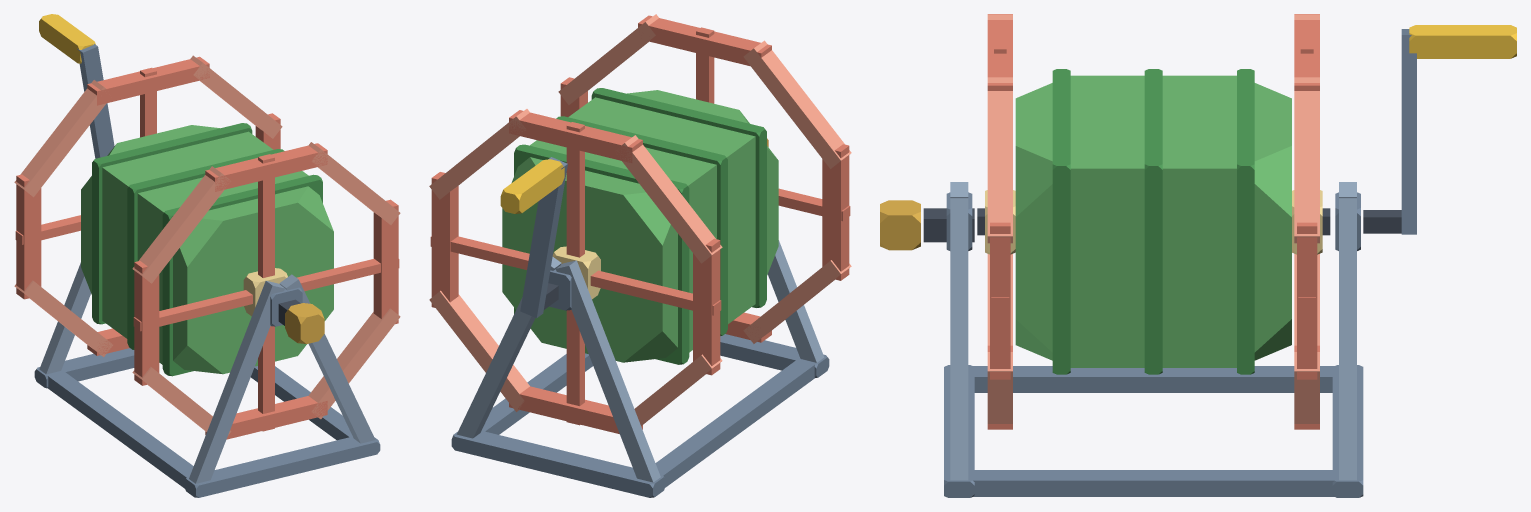
Rendered from hose-reel-j-toastie_R5xHvcRKb2-blocky.glb.
The picture shows the model from 3 angles, left to right: view 1: azimuth 30°, elevation 25°; view 2: azimuth 150°, elevation 25°; view 3: azimuth 270°, elevation 25°; orthographic projection. The views are drawn at different scales.
Visible parts, largest first — view 1: Main, Stand, Handle, E_1; view 2: Main, Stand, Handle; view 3: Main, Stand, Handle, E_1.
Part boxes in pixels (<box>): Main: <box>14,55,400,439</box>; Stand: <box>34,262,380,497</box>; Handle: <box>39,14,114,158</box>; E_1: <box>278,299,324,343</box>; Main: <box>429,14,851,433</box>; Stand: <box>451,240,829,497</box>; Handle: <box>500,157,567,318</box>; Main: <box>977,14,1330,429</box>; Stand: <box>944,182,1363,497</box>; Handle: <box>1363,25,1516,234</box>; E_1: <box>880,200,974,250</box>.
Bounding box in the file's own units: 1.52 × 1.71 × 2.49.
Materials: 1 (1 with a texture image).
